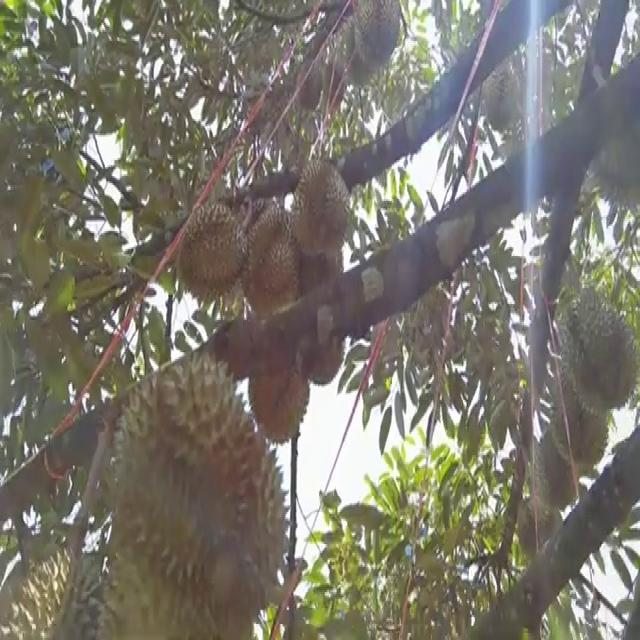durian: (100, 342, 296, 638), (1, 540, 119, 638), (559, 282, 639, 417), (235, 200, 305, 326), (175, 194, 250, 298), (544, 363, 615, 471), (247, 337, 312, 450), (290, 155, 354, 262), (586, 90, 638, 214), (514, 488, 570, 580), (532, 417, 585, 512), (295, 301, 348, 388), (298, 232, 344, 311), (349, 0, 404, 66), (479, 55, 521, 135), (292, 58, 324, 113)
